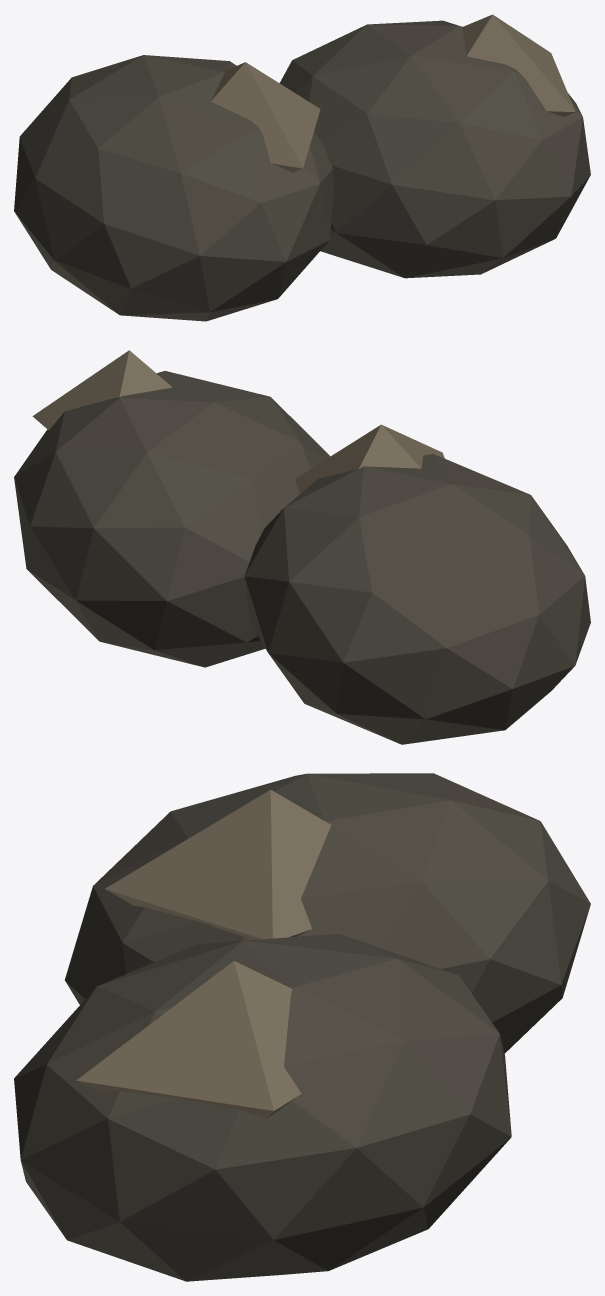
The model's file is pile-stone-2.obj.
3 views of the same model, one above another, from view 1: azimuth 30°, elevation 25°; view 2: azimuth 150°, elevation 25°; view 3: azimuth 270°, elevation 25° (orthographic). The views are drawn at different scales.
Visible parts, largest first — view 1: pile-stone-2; view 2: pile-stone-2; view 3: pile-stone-2.
Boxes of the visible parts, x1,y1,x2,y2 form: pile-stone-2: (14, 14, 590, 321); pile-stone-2: (14, 350, 590, 744); pile-stone-2: (14, 773, 590, 1281).
Bounding box in the file's own units: 0.5857 × 0.2639 × 0.3996.
Materials: 1 (1 with a texture image).
